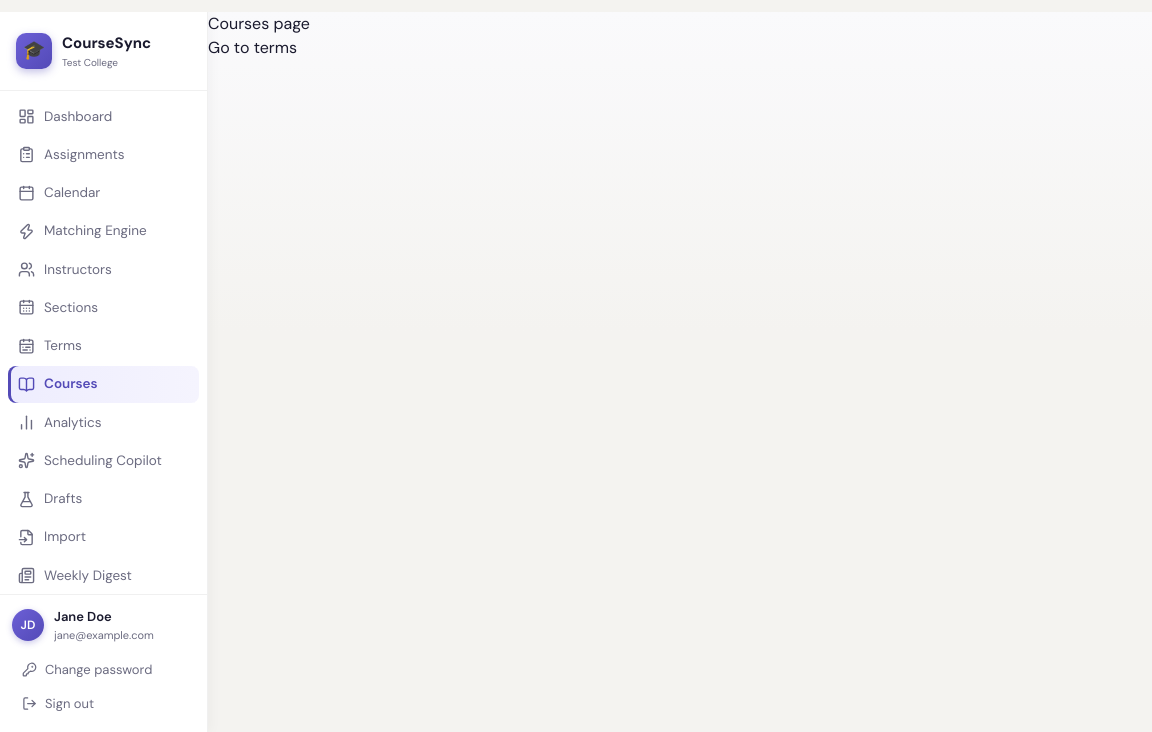
Scenario: AppLayout accessibility behaviour › on navigation, updates the title and moves focus to the content
The image size is (1152, 732).
Click the link "Go to terms" at (252, 48), box [208,37,297,58]
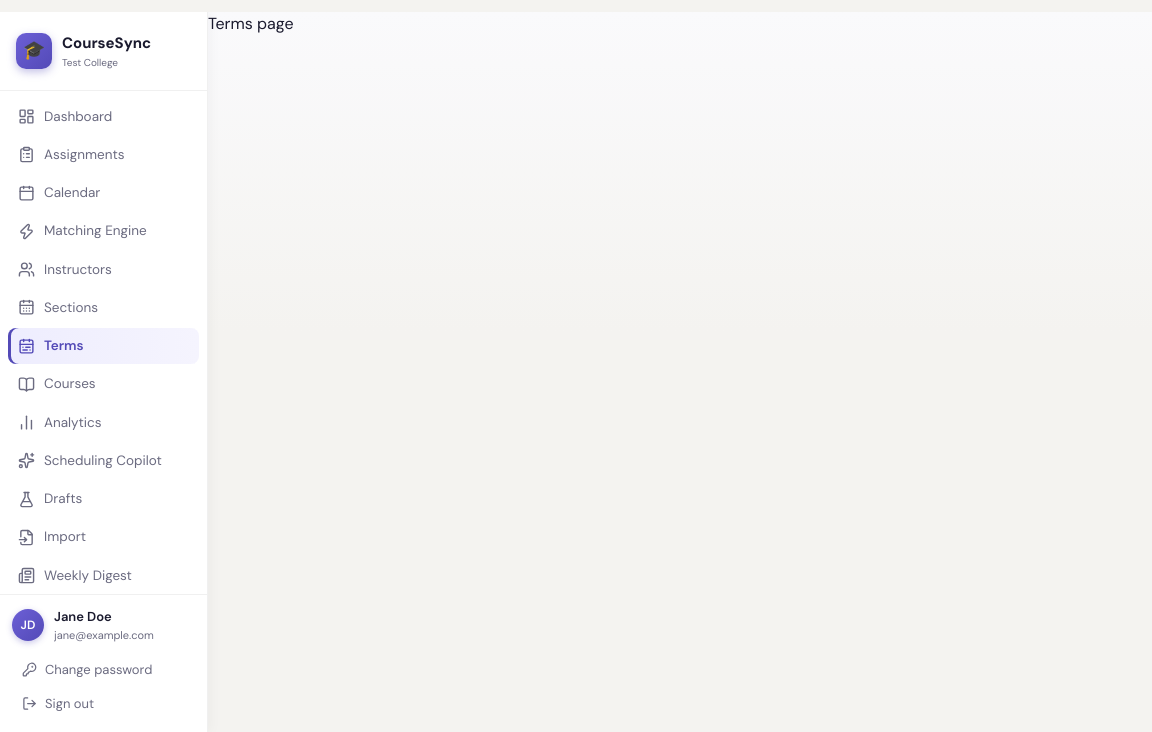
expect the heading "Terms page" is shown: met, box [208,13,294,34]
